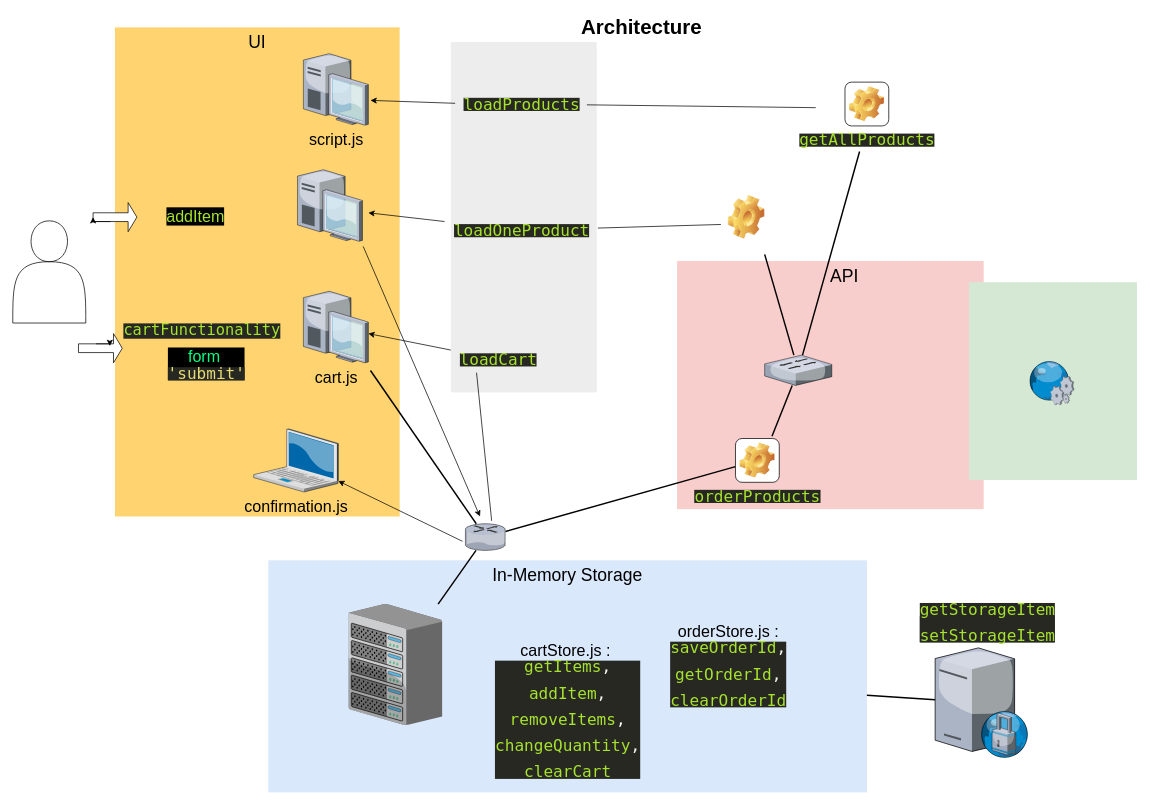
The diagram is 1150 pixels wide and 804 high, and some of its shapes have lost their labels. Each missing label, with the box of its shape:
Backend: (969, 282, 1137, 480)
getOneProduct: (728, 195, 764, 239)
Local Storage: (935, 648, 1028, 757)
product.js: (297, 169, 362, 241)
